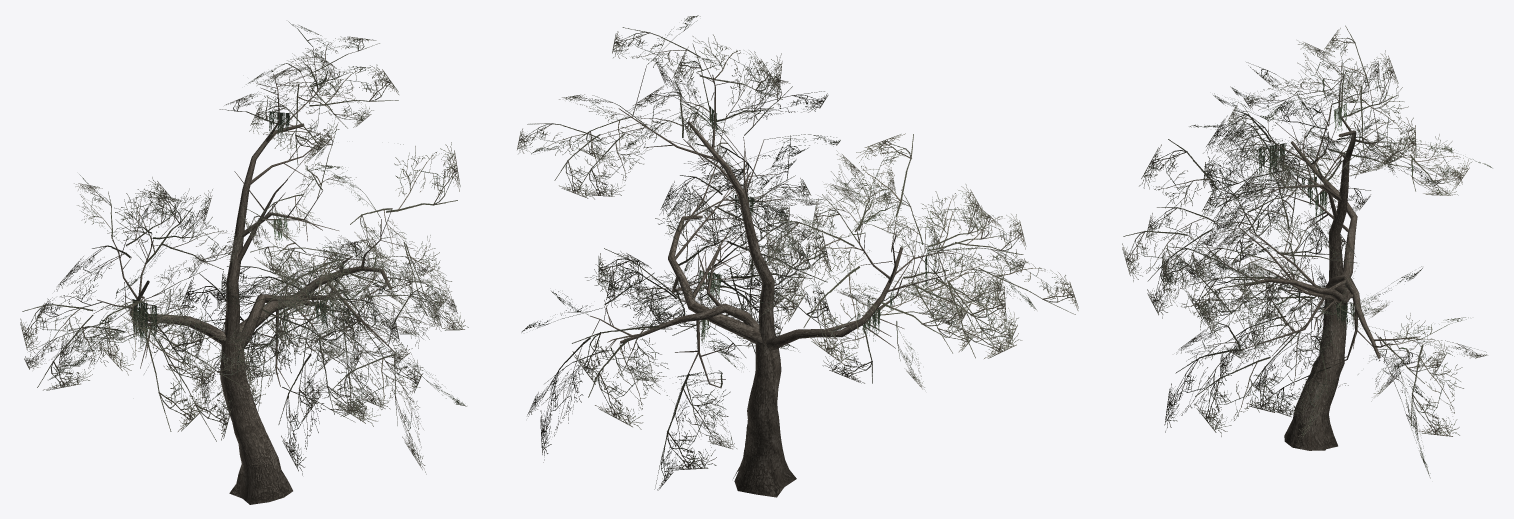
The model's file is tree_v6_decid_gothic_twisted_winter.glb.
3 renders of one model, left to right at view 1: azimuth 30°, elevation 25°; view 2: azimuth 150°, elevation 25°; view 3: azimuth 270°, elevation 25°, orthographic. The views are drawn at different scales.
Parts seen in each view (by area): view 1: tree_v6_decid_gothic_twisted_winter_LOD0; view 2: tree_v6_decid_gothic_twisted_winter_LOD0; view 3: tree_v6_decid_gothic_twisted_winter_LOD0.
Part boxes in pixels (bbox=[...]): tree_v6_decid_gothic_twisted_winter_LOD0: bbox=[20, 21, 468, 504]; tree_v6_decid_gothic_twisted_winter_LOD0: bbox=[517, 15, 1078, 497]; tree_v6_decid_gothic_twisted_winter_LOD0: bbox=[1122, 25, 1492, 478].
Size of what is drawn, in the model's own units: 10.53 by 10.1 by 7.85.
Materials: 1 (1 with a texture image).
